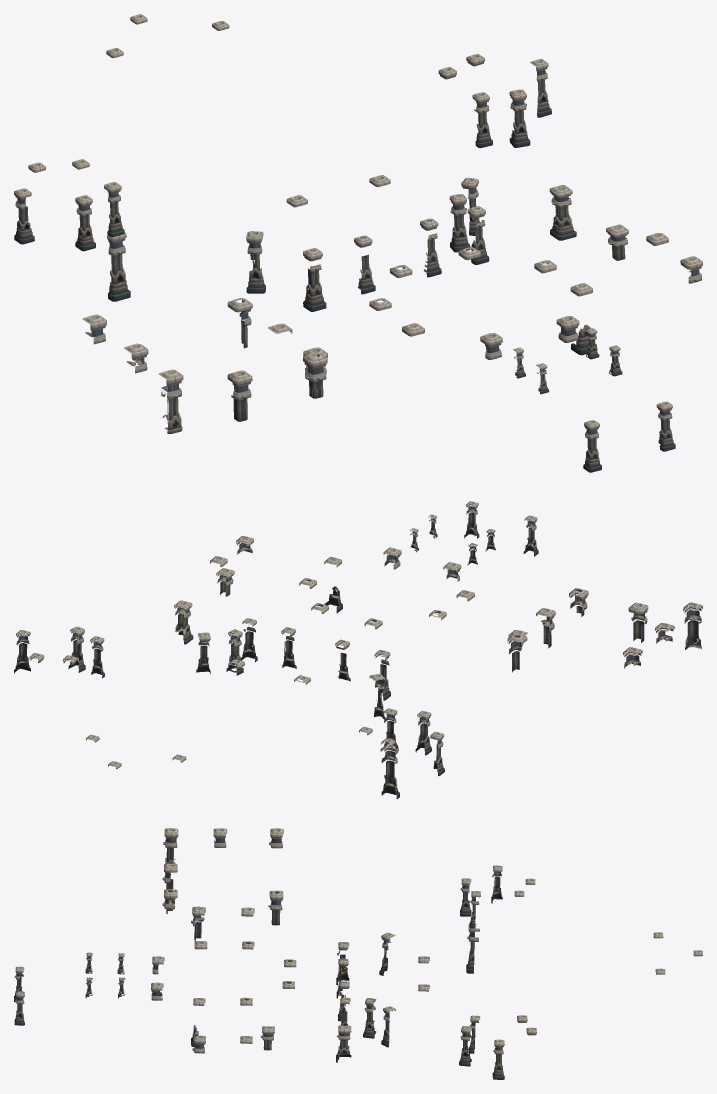
Rendered from S_Build_City078_A.FBX.
3 views of the same model, one above another, from view 1: azimuth 30°, elevation 25°; view 2: azimuth 150°, elevation 25°; view 3: azimuth 270°, elevation 25° (orthographic). The views are drawn at different scales.
Parts seen in each view (by area): view 1: S_Build_City078_036, S_Build_City078_030, S_Build_City078_020, S_Build_City078_026, S_Build_City078_033, S_Build_City078_019, S_Build_City078_043, S_Build_City078_032, S_Build_City078_038, S_Build_City078_039, S_Build_City078_042, S_Build_City078_037; view 2: S_Build_City078_020, S_Build_City078_036, S_Build_City078_030, S_Build_City078_019, S_Build_City078_043, S_Build_City078_032, S_Build_City078_038, S_Build_City078_044; view 3: S_Build_City078_020, S_Build_City078_030.
Boxes of the visible parts, x1,y1,x2,y2 form: S_Build_City078_036: (107,232,130,301); S_Build_City078_030: (549,185,576,240); S_Build_City078_020: (158,369,183,433); S_Build_City078_026: (303,248,326,311); S_Build_City078_033: (246,231,265,293); S_Build_City078_019: (227,370,252,421); S_Build_City078_043: (509,89,530,147); S_Build_City078_032: (449,194,470,252); S_Build_City078_038: (75,195,95,251); S_Build_City078_039: (14,188,34,244); S_Build_City078_042: (472,92,492,148); S_Build_City078_037: (104,182,124,237); S_Build_City078_020: (683,602,702,649); S_Build_City078_036: (380,744,399,799); S_Build_City078_030: (174,600,193,644); S_Build_City078_019: (628,602,648,642); S_Build_City078_043: (68,626,85,672); S_Build_City078_032: (226,629,243,675); S_Build_City078_038: (415,711,431,755); S_Build_City078_044: (14,630,30,673); S_Build_City078_020: (163,828,178,863); S_Build_City078_030: (336,1025,351,1062).
Size of the model in its own units: 18024 by 24812 by 3397.
Materials: 1 (1 with a texture image).
